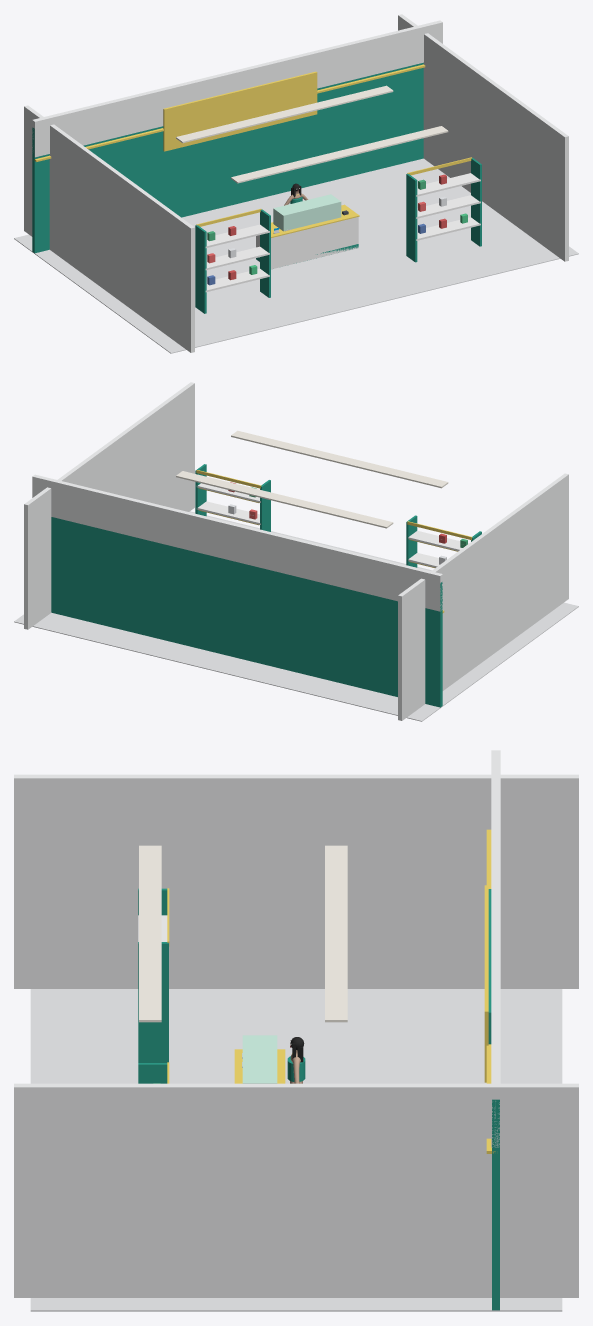
Rendered from SariSwerte_INDAY.glb.
3 renders of one model, top to bottom at view 1: azimuth 30°, elevation 25°; view 2: azimuth 150°, elevation 25°; view 3: azimuth 270°, elevation 25°, orthographic. The views are drawn at different scales.
Visible parts, largest first — view 1: Store_Floor, Store_BackWall, Store_SideWall_-5.5, Store_SideWall_5.5, Store_BackWall_Upper, Store_Sign_GoldBorder, Store_Counter, Store_CeilingPanel_0.6, Store_CeilingPanel_-2.2, Store_GlassDisplay, Store_ShelfPost_-3.1_-0.95, Store_ShelfPost_3.1_-0.95 (+10 smaller); view 2: Store_BackWall, Store_SideWall_-5.5, Store_BackWall_Upper, Store_SideWall_5.5, Store_Floor, Store_CeilingPanel_-2.2, Store_CeilingPanel_0.6, Store_Shelf_3.1_1, Store_Shelf_-3.1_2, Store_ShelfPost_3.1_-0.95, Store_ShelfPost_-3.1_0.95; view 3: Store_SideWall_5.5, Store_SideWall_-5.5, Store_Floor, Store_CeilingPanel_-2.2, Store_CeilingPanel_0.6, Store_BackWall_Upper, Store_ShelfPost_-3.1_0.95, Store_GlassDisplay, Store_BackWall, Store_Sign_GoldBorder, INDAY_Character.
Part boxes in pixels (x1,y1,x2,y2): Store_Floor: (14,158,578,353); Store_BackWall: (32,62,423,253); Store_SideWall_-5.5: (24,105,194,352); Store_SideWall_5.5: (398,14,568,261); Store_BackWall_Upper: (32,20,442,157); Store_Sign_GoldBorder: (163,71,317,151); Store_Counter: (256,217,358,269); Store_CeilingPanel_0.6: (176,85,393,143); Store_CeilingPanel_-2.2: (231,126,448,183); Store_GlassDisplay: (273,194,341,231); Store_ShelfPost_-3.1_-0.95: (195,225,206,313); Store_ShelfPost_3.1_-0.95: (406,174,417,262); Store_BackWall: (51,517,442,707); Store_SideWall_-5.5: (398,473,568,720); Store_BackWall_Upper: (32,474,442,611); Store_SideWall_5.5: (24,382,194,629); Store_Floor: (14,511,578,721); Store_CeilingPanel_-2.2: (231,430,448,488); Store_CeilingPanel_0.6: (176,471,393,528); Store_Shelf_3.1_1: (196,501,260,524); Store_Shelf_-3.1_2: (408,530,468,551); Store_ShelfPost_3.1_-0.95: (260,480,270,531); Store_ShelfPost_-3.1_0.95: (406,515,417,567); Store_SideWall_5.5: (14,1083,578,1297); Store_SideWall_-5.5: (14,774,578,988); Store_Floor: (30,989,562,1311); Store_CeilingPanel_-2.2: (139,845,161,1022); Store_CeilingPanel_0.6: (325,845,347,1022); Store_BackWall_Upper: (491,750,500,1147); Store_ShelfPost_-3.1_0.95: (138,942,168,1062); Store_GlassDisplay: (242,1035,277,1083); Store_BackWall: (492,1099,499,1310); Store_Sign_GoldBorder: (484,885,488,1082); INDAY_Character: (287,1037,305,1083).
Size of the model in its own units: 12 by 3.72 by 8.5.
